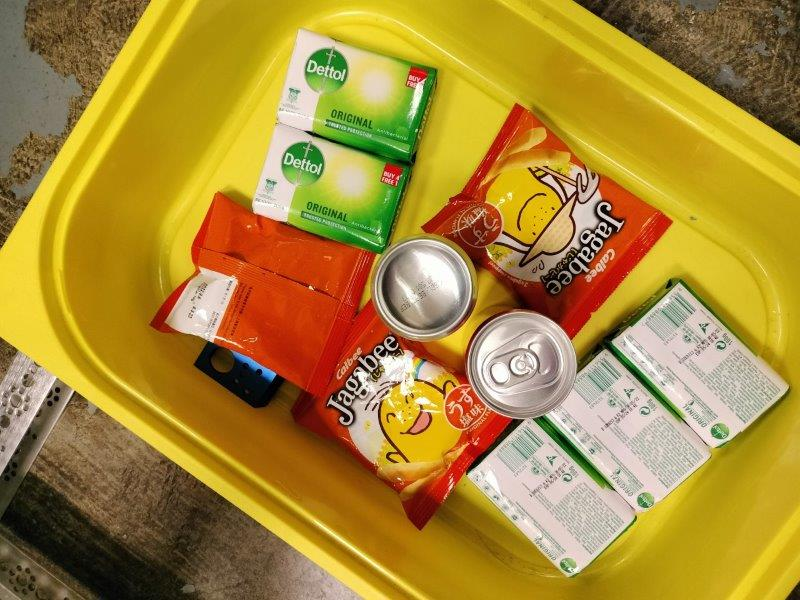Coke: (467, 309, 578, 418), (370, 233, 479, 341)
Dettol: (610, 280, 787, 446), (464, 414, 637, 576), (540, 349, 712, 507), (277, 29, 439, 163), (256, 123, 414, 255)
Jagabee: (424, 103, 672, 338), (291, 301, 514, 528), (153, 192, 376, 394)
